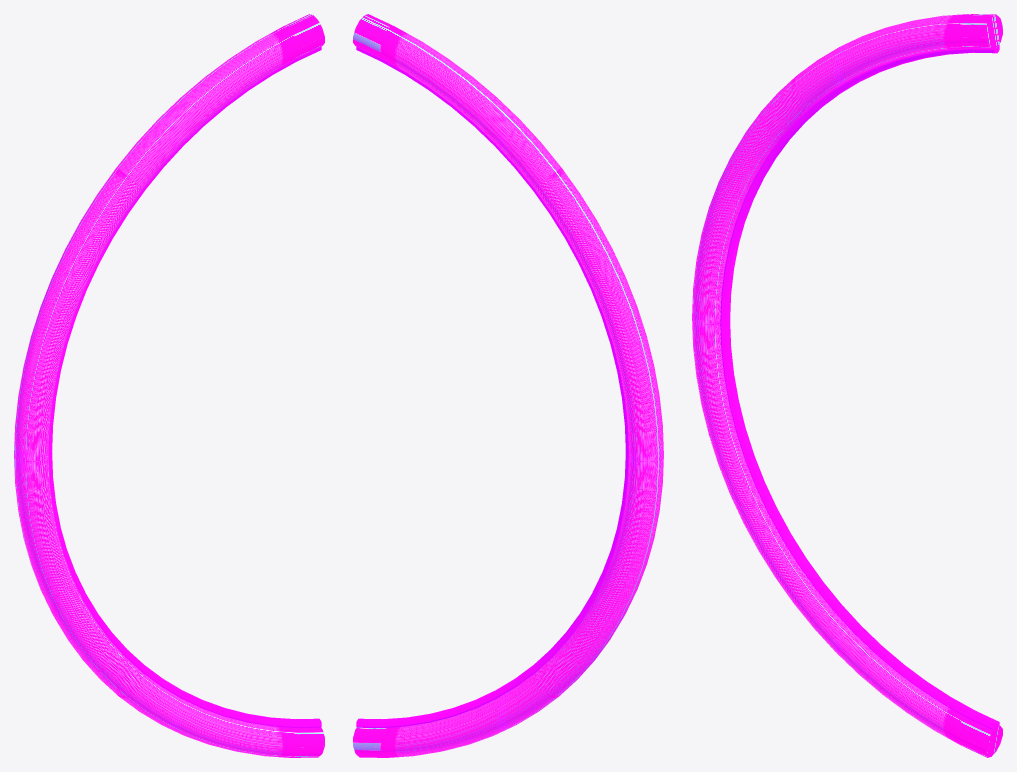
The model's file is WING_L.glb.
3 views of the same model, side by side, from view 1: azimuth 30°, elevation 25°; view 2: azimuth 150°, elevation 25°; view 3: azimuth 330°, elevation 25° (orthographic).
Visible parts, largest first — view 1: WING_L_02; view 2: WING_L_02; view 3: WING_L_02.
Part boxes in pixels (x1,y1,x2,y2): WING_L_02: (14,14,324,757); WING_L_02: (353,14,663,757); WING_L_02: (692,14,1002,757).
Bounding box in the file's own units: 2.02 × 4.73 × 0.2.
Materials: 2 (1 with a texture image).
